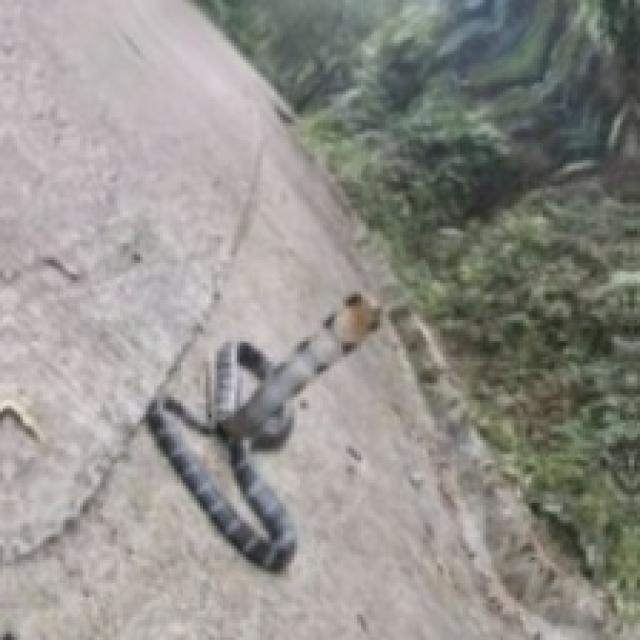king cobra: (146, 294, 380, 569)
